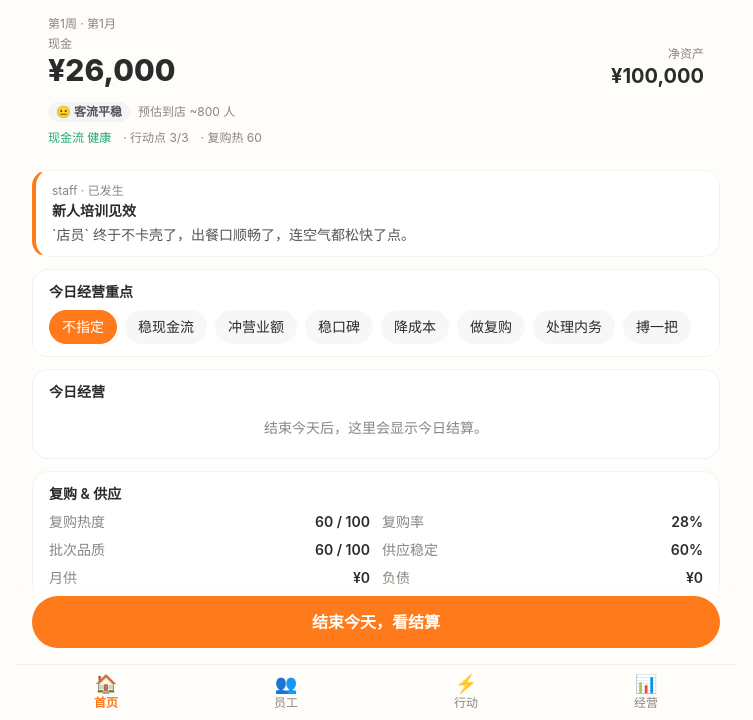
Test case: AppShell · 渲染 › 点击 tab 切换 activeTab，对应 tab 获得 aria-current=page
This screenshot has width=753, height=720.
Click the button "👥 员工": (286, 692) top-left (196, 665), bottom-right (376, 719)
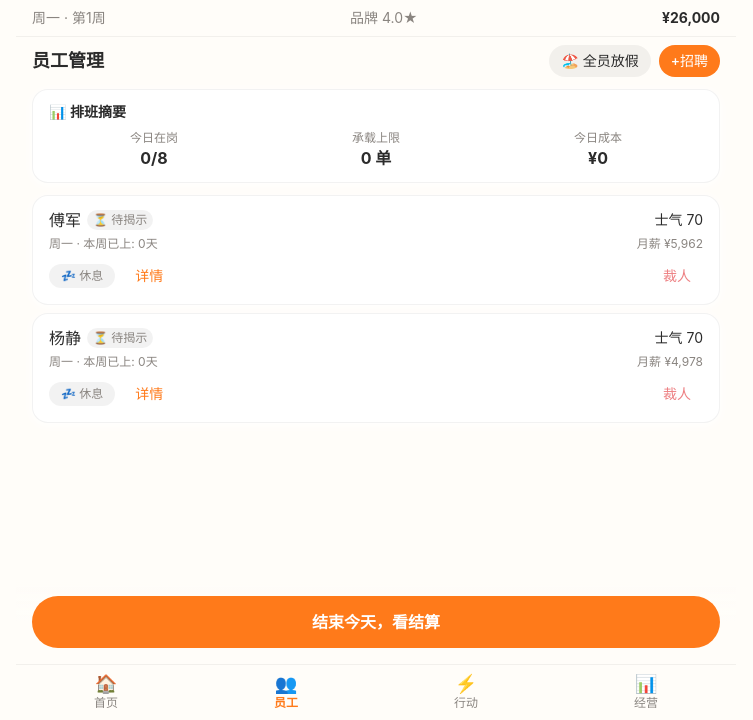
Check: the heading "员工管理" is shown, box top-left (32, 47), bottom-right (104, 75)
Click the button "⚡ 行动": (466, 692) top-left (376, 665), bottom-right (556, 719)
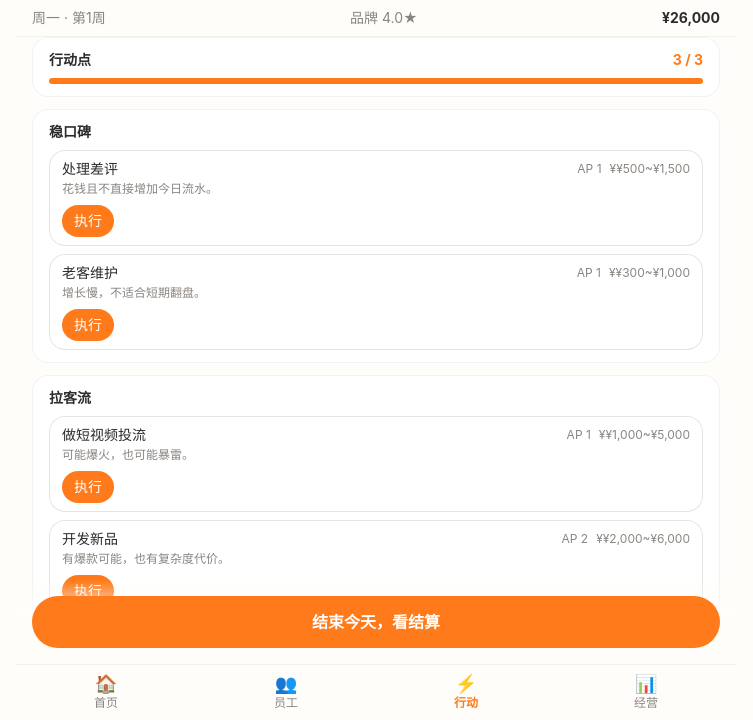
Check: the button "⚡ 行动" is marked as current, box top-left (376, 665), bottom-right (556, 719)
Click the button "📊 经营": (646, 692) top-left (556, 665), bottom-right (736, 719)
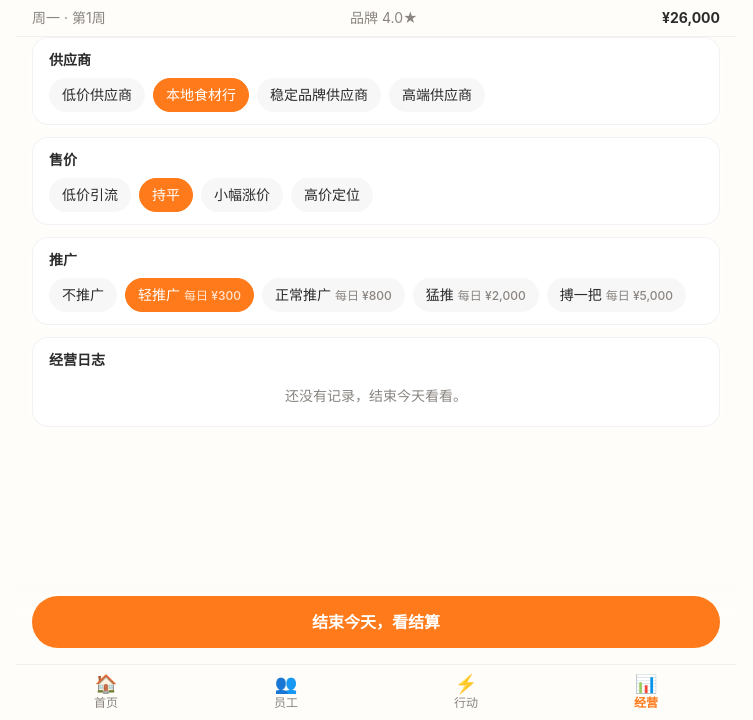
Check: the text "经营日志" is shown, box top-left (49, 351), bottom-right (105, 368)
